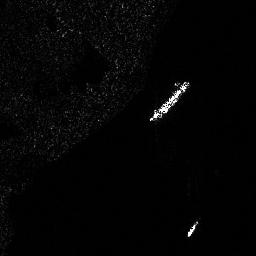ship: (150, 79, 189, 120), (186, 220, 199, 237)
